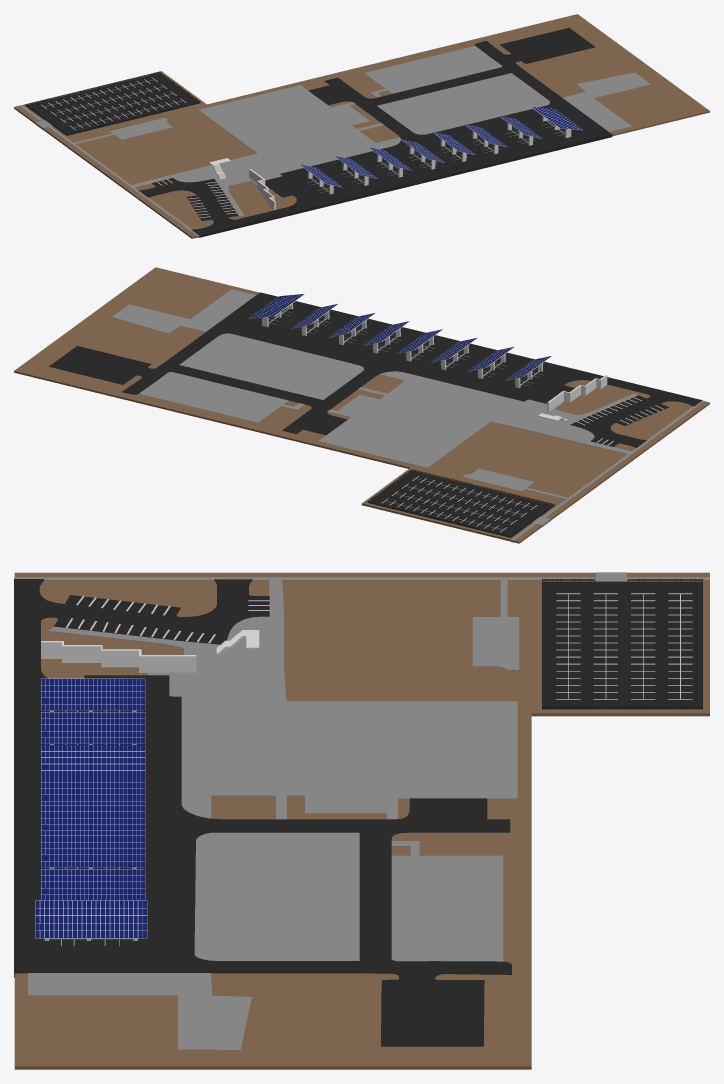
Rendered from thebuilding.glb.
3 renders of one model, top to bottom at view 1: azimuth 30°, elevation 25°; view 2: azimuth 150°, elevation 25°; view 3: azimuth 270°, elevation 25°, orthographic. The views are drawn at different scales.
Visible parts, largest first — view 1: sidewalk, gravel, parking, solarpanel, eastlines, solarparking, wall.001; view 2: sidewalk, gravel, parking, solarpanel, wall.001, eastlines, solarparking; view 3: sidewalk, gravel, parking, solarpanel, wall.001, eastlines.
Boxes of the visible parts, x1=… form: sidewalk: x1=19, y1=46, x2=650, y2=237; gravel: x1=14, y1=14, x2=709, y2=238; parking: x1=139, y1=27, x2=612, y2=237; solarpanel: x1=299, y1=107, x2=582, y2=194; eastlines: x1=41, y1=77, x2=186, y2=129; solarparking: x1=307, y1=120, x2=564, y2=192; wall.001: x1=249, y1=169, x2=275, y2=210; sidewalk: x1=112, y1=289, x2=704, y2=542; gravel: x1=14, y1=267, x2=709, y2=543; parking: x1=49, y1=292, x2=702, y2=447; solarpanel: x1=249, y1=294, x2=551, y2=388; wall.001: x1=547, y1=375, x2=607, y2=411; eastlines: x1=381, y1=476, x2=537, y2=532; solarparking: x1=268, y1=308, x2=544, y2=386; sidewalk: x1=14, y1=572, x2=709, y2=1050; gravel: x1=14, y1=572, x2=709, y2=1069; parking: x1=14, y1=579, x2=511, y2=1046; solarpanel: x1=35, y1=678, x2=147, y2=940; wall.001: x1=41, y1=641, x2=196, y2=672; eastlines: x1=556, y1=593, x2=692, y2=699.
Bounding box in the file's own units: 17.91 × 0.5486 × 10.67.
